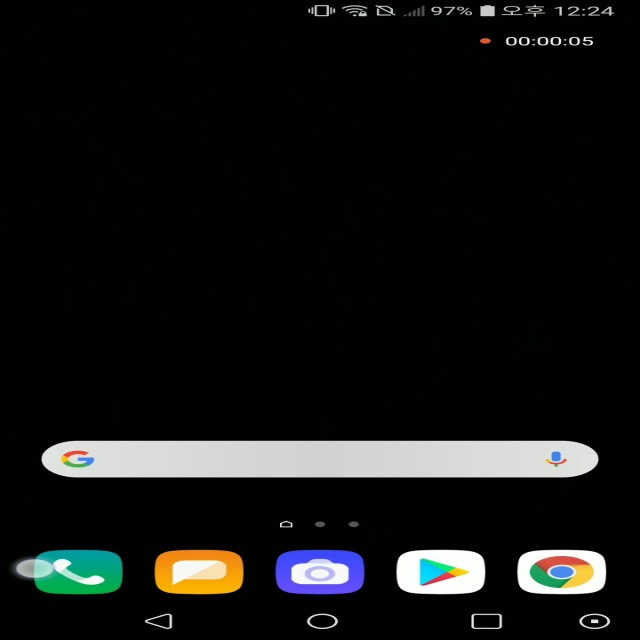Cursor: (12, 559, 56, 581)
